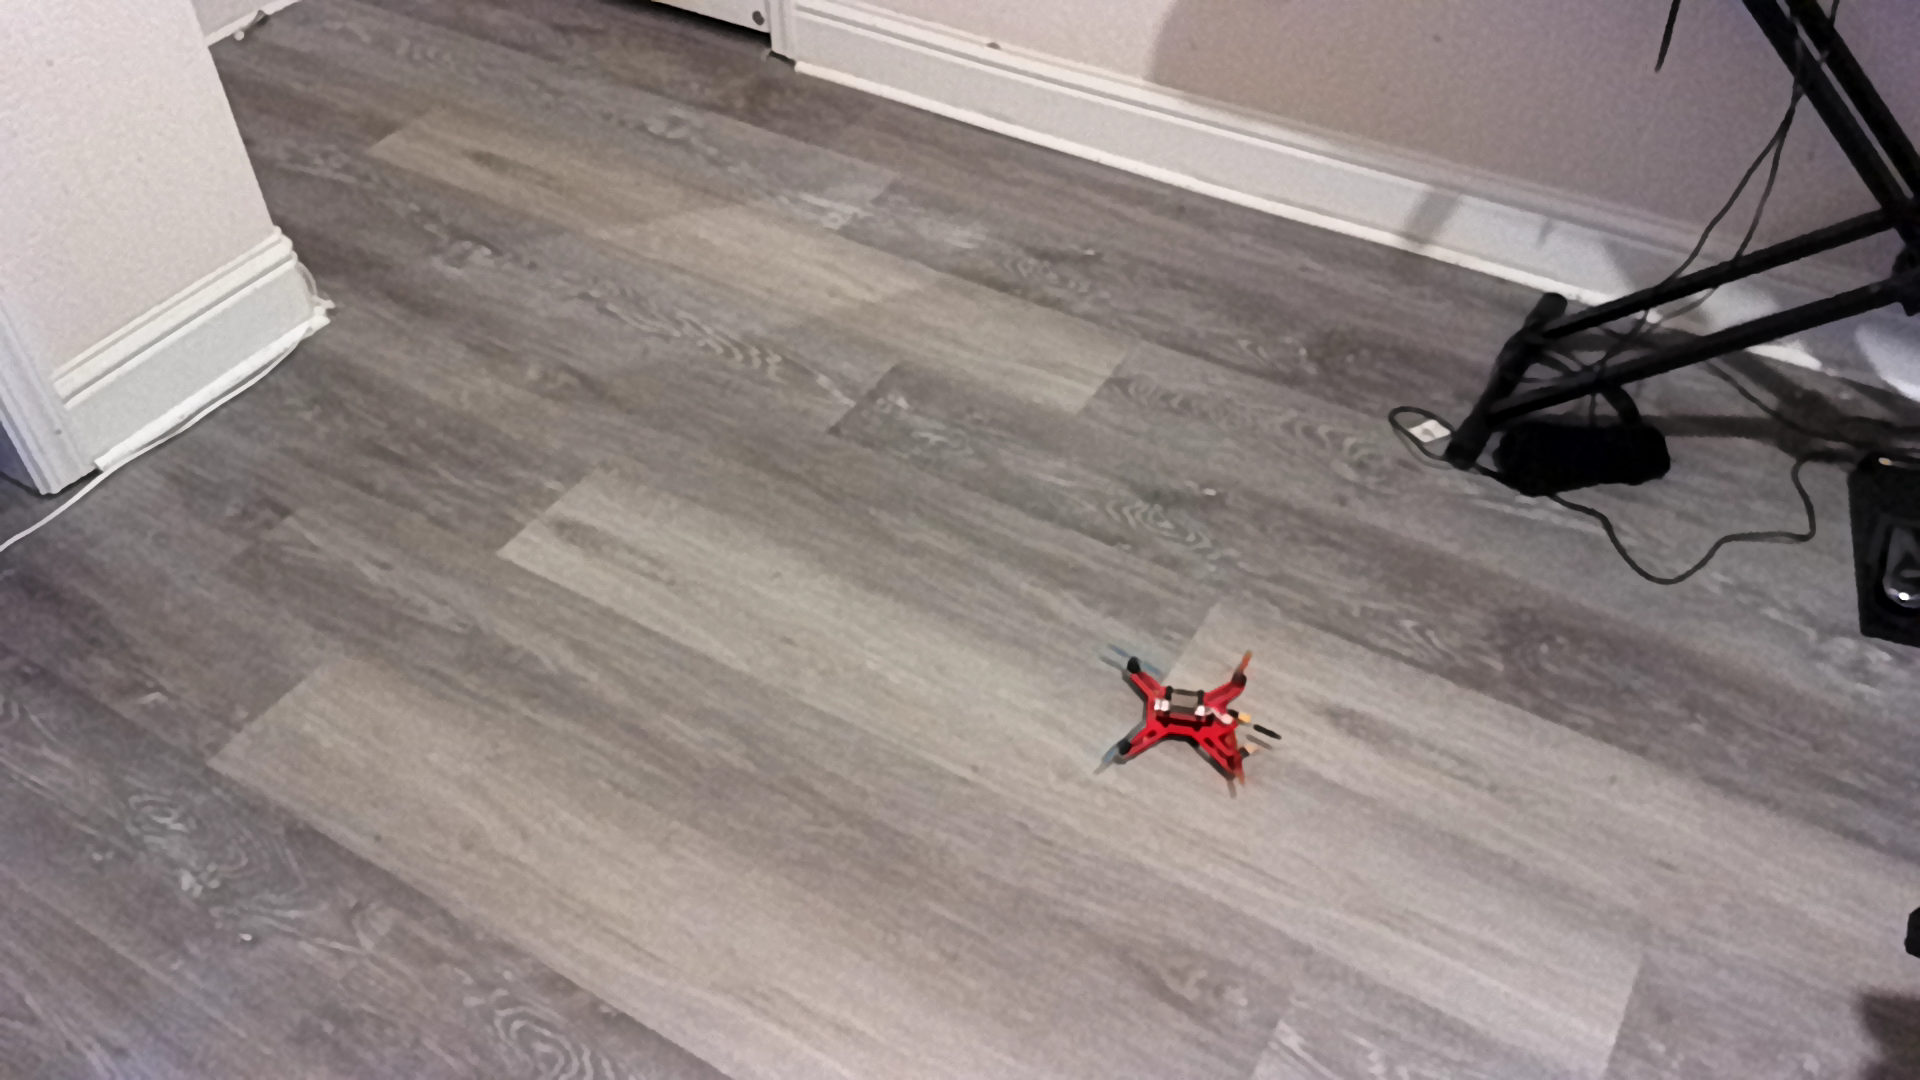drone: (1091, 630, 1294, 800)
